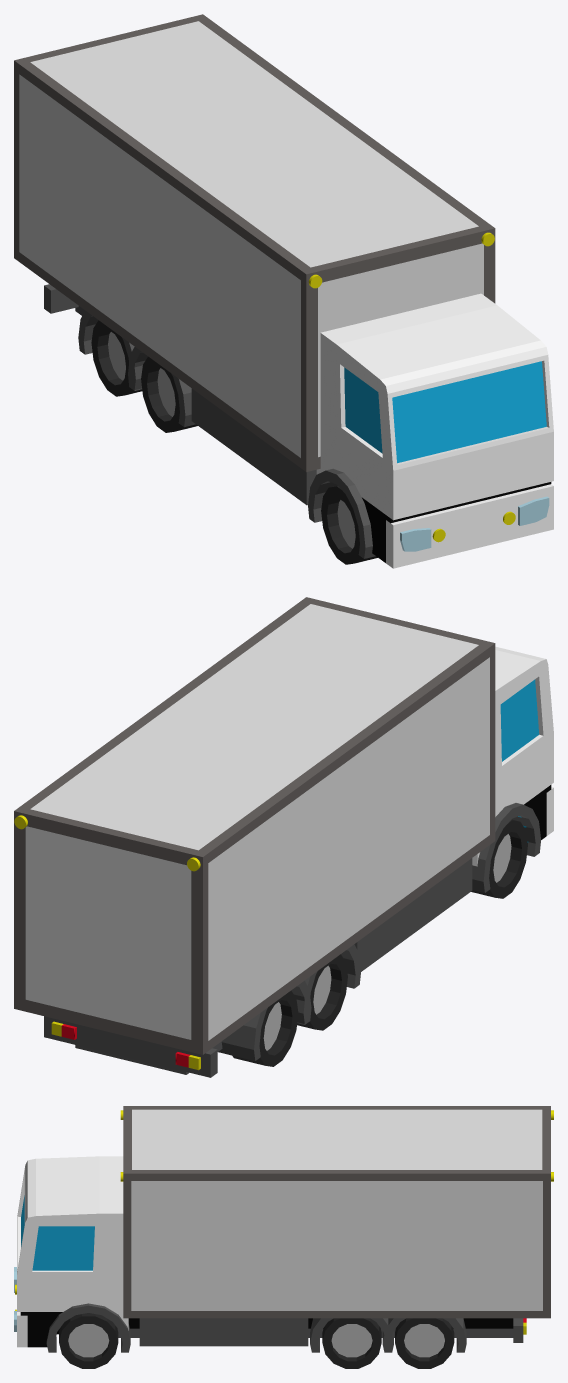
The model's file is TRUCK.fbx.
The picture shows the model from 3 angles, top to bottom: view 1: azimuth 30°, elevation 25°; view 2: azimuth 150°, elevation 25°; view 3: azimuth 270°, elevation 25°; orthographic projection. The views are drawn at different scales.
Parts seen in each view (by area): view 1: truck, wheel.003, wheel.005, wheel.006; view 2: truck, wheel.003, wheel.006, wheel.005; view 3: truck, wheel.001, wheel.005, wheel.006.
Part boxes in pixels (left/top/right/bottom): truck: left=14, top=14, right=553, bottom=568; wheel.003: left=321, top=485, right=377, bottom=564; wheel.005: left=141, top=356, right=197, bottom=432; wheel.006: left=91, top=320, right=142, bottom=396; truck: left=14, top=597, right=553, bottom=1077; wheel.003: left=471, top=819, right=527, bottom=898; wheel.006: left=232, top=990, right=298, bottom=1066; wheel.005: left=297, top=954, right=347, bottom=1030; truck: left=14, top=1106, right=553, bottom=1352; wheel.001: left=59, top=1313, right=118, bottom=1368; wheel.005: left=322, top=1318, right=381, bottom=1368; wheel.006: left=395, top=1318, right=454, bottom=1368.
Bounding box in the file's own units: 206 × 284 × 698.
